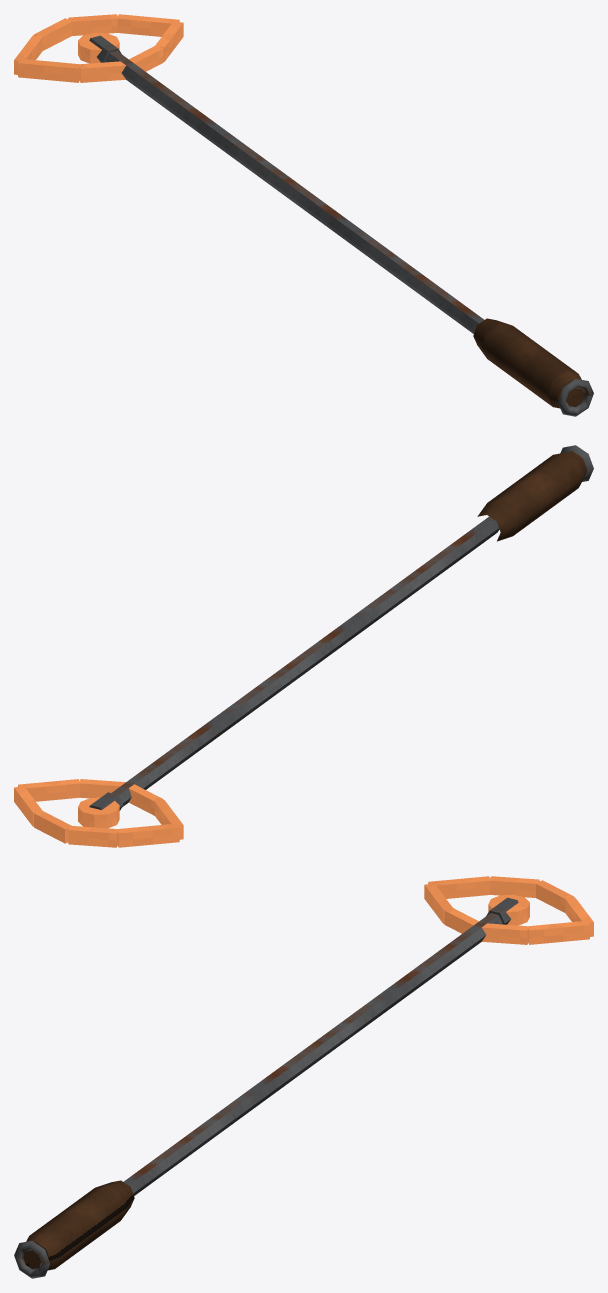
The model's file is item_brand_iron.glb.
3 renders of one model, top to bottom at view 1: azimuth 30°, elevation 25°; view 2: azimuth 150°, elevation 25°; view 3: azimuth 330°, elevation 25°, orthographic.
Parts seen in each view (by area): view 1: iron, Brand; view 2: iron, Brand; view 3: iron, Brand.
Part boxes in pixels (x1,y1,x2,y2): iron: (105,51,593,416); Brand: (14,14,183,82); iron: (112,445,593,806); Brand: (14,779,183,847); iron: (14,913,502,1278); Brand: (424,876,593,944).
Bounding box in the file's own units: 0.1454 × 0.032 × 0.7777.
Materials: 3 (3 with a texture image).
